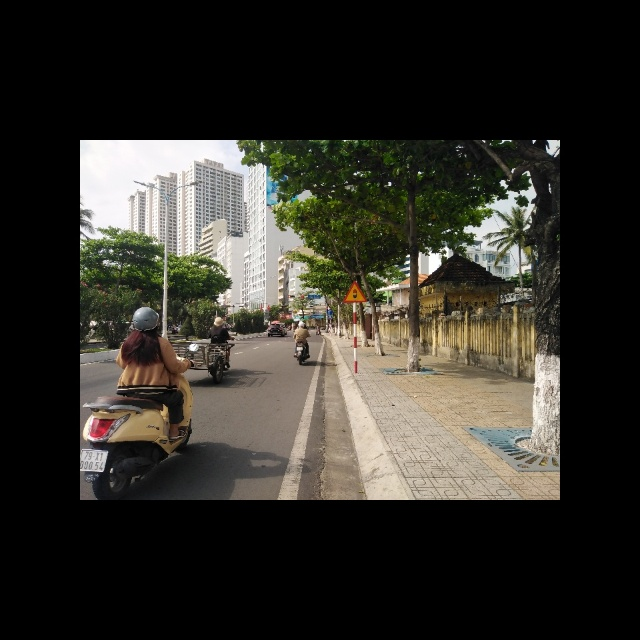Giao nhau có tín hiệu đèn: (343, 278, 368, 303)
